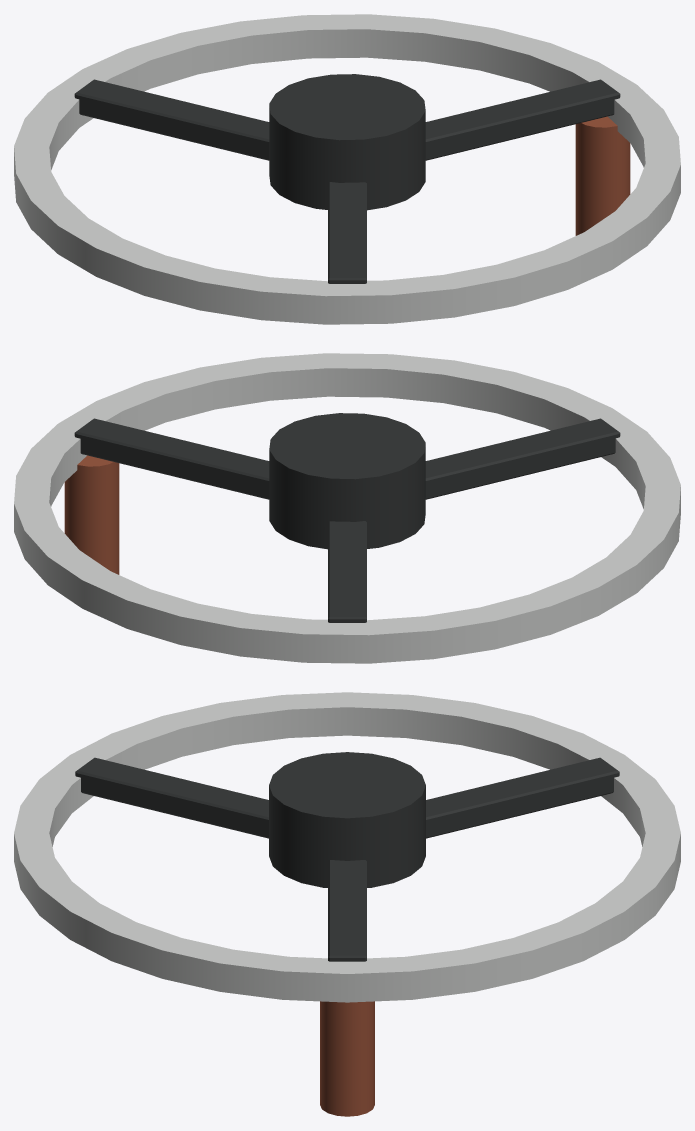
The model's file is mobile_shelving_run_outer_carriage_crank.glb.
The picture shows the model from 3 angles, top to bottom: view 1: azimuth 30°, elevation 25°; view 2: azimuth 150°, elevation 25°; view 3: azimuth 270°, elevation 25°; orthographic projection.
Visible parts, largest first — view 1: mobile_shelving_run_outer_carriage_crank.001; view 2: mobile_shelving_run_outer_carriage_crank.001; view 3: mobile_shelving_run_outer_carriage_crank.001.
Part boxes in pixels (x1=…): mobile_shelving_run_outer_carriage_crank.001: x1=14, y1=14, x2=680, y2=324; mobile_shelving_run_outer_carriage_crank.001: x1=14, y1=353, x2=680, y2=663; mobile_shelving_run_outer_carriage_crank.001: x1=14, y1=692, x2=680, y2=1116.
Size of the model in its own units: 0.34 by 0.11 by 0.34.
